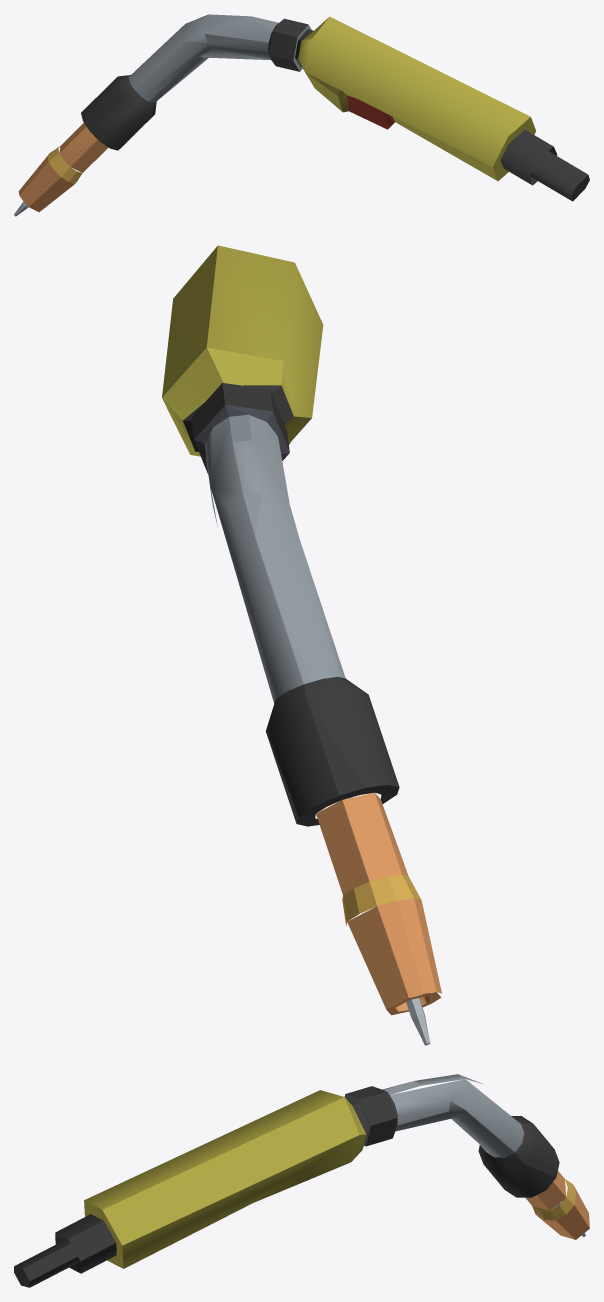
File: gun v3.glb
3 views of the same model, one above another, from view 1: azimuth 30°, elevation 25°; view 2: azimuth 150°, elevation 25°; view 3: azimuth 270°, elevation 25° (orthographic). The views are drawn at different scales.
Parts seen in each view (by area): view 1: MIG_Handle (1); view 2: MIG_Handle (1); view 3: MIG_Handle (1).
Boxes of the visible parts, x1,y1,x2,y2 form: MIG_Handle (1): (18,14,589,212); MIG_Handle (1): (162,245,441,1015); MIG_Handle (1): (14,1074,589,1287).
Size of the model in its own units: 0.1358 by 0.0851 by 0.1703.
Materials: 1 (1 with a texture image).
